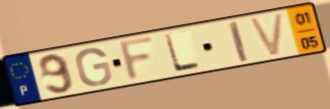9: (37, 52, 75, 96)
F: (117, 33, 158, 84)
G: (74, 46, 115, 88)
I: (226, 19, 251, 64)
L: (162, 32, 204, 74)
V: (246, 10, 287, 59)
